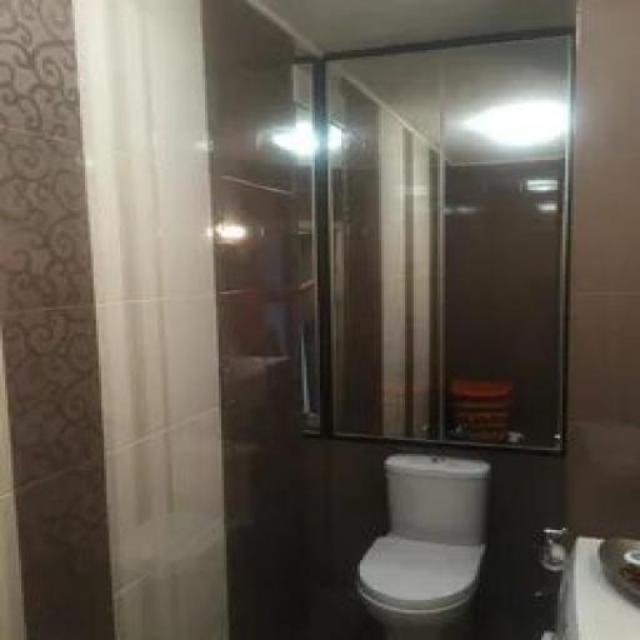Washing-Machine: (550, 537, 638, 639)
